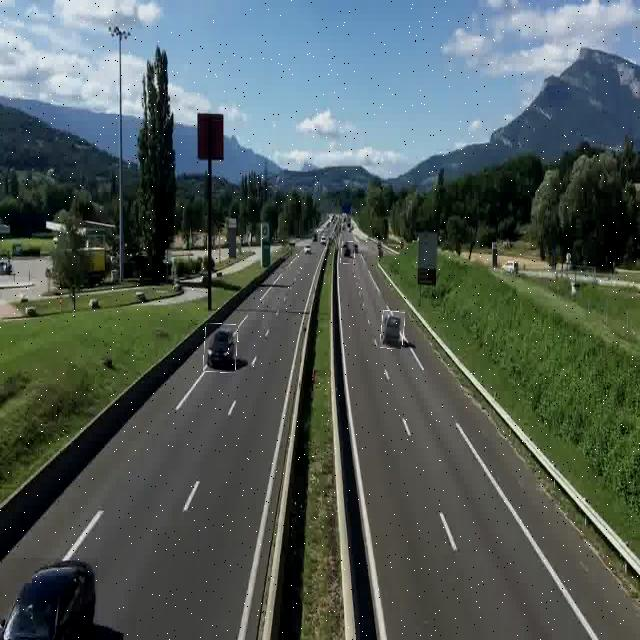Car: (0, 558, 98, 640), (204, 323, 238, 373), (381, 311, 405, 348), (341, 242, 354, 264)
